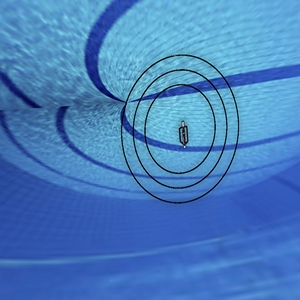circle: (106, 36, 259, 211)
submarine: (171, 117, 196, 157)
